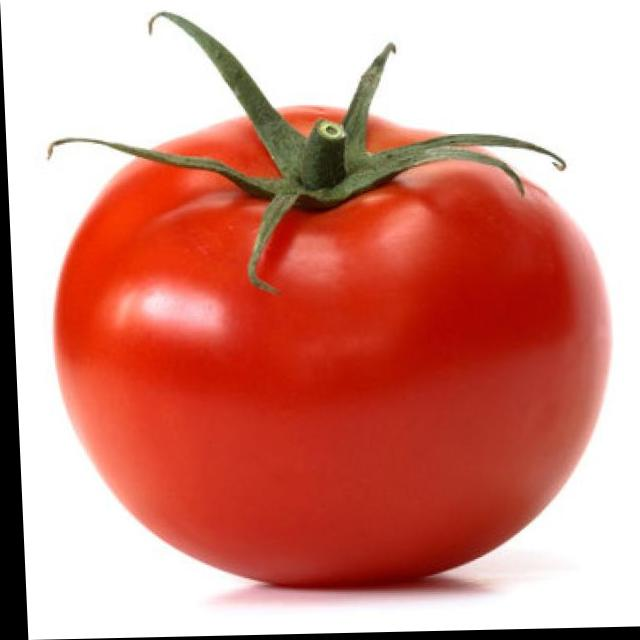kirmizi: (23, 66, 621, 610)
